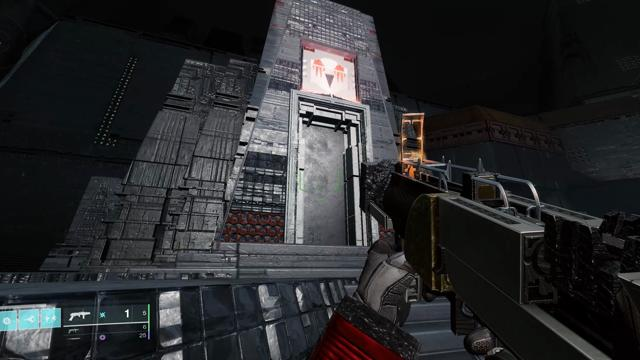give: (311, 58, 348, 92)
